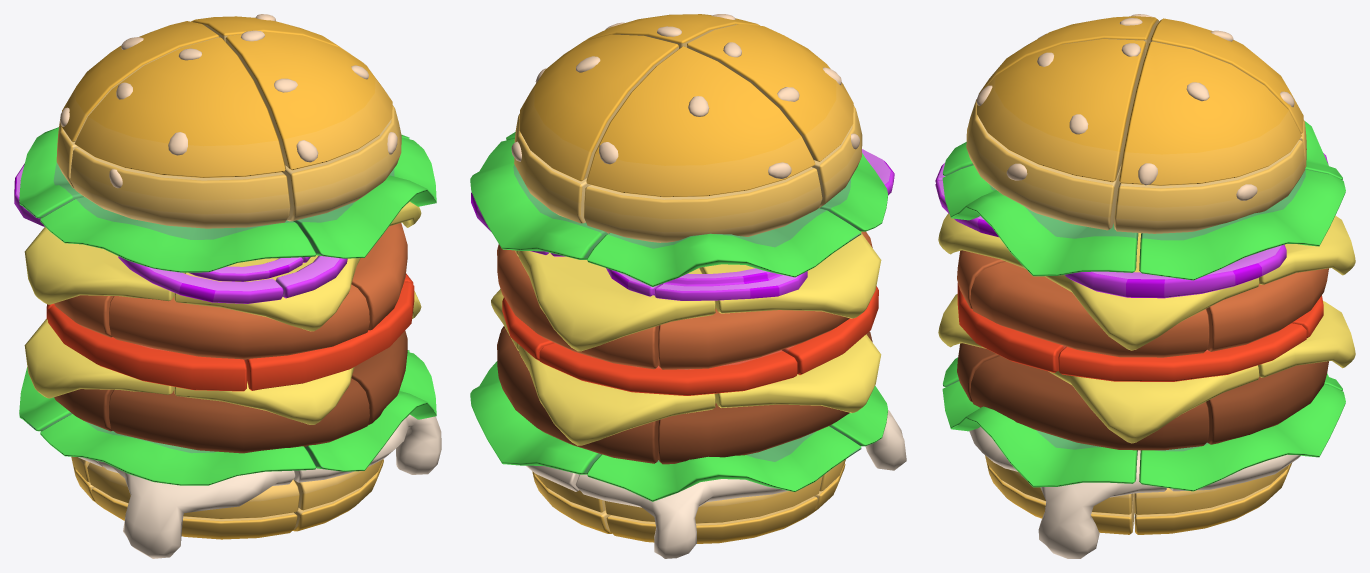
The model's file is Level_P_19.fbx.
The picture shows the model from 3 angles, left to right: view 1: azimuth 30°, elevation 25°; view 2: azimuth 150°, elevation 25°; view 3: azimuth 270°, elevation 25°; orthographic projection.
Parts seen in each view (by area): view 1: Hamburger_2_2, Hamburger_2_5, Hamburger_2_23, Hamburger_2_23.001, Hamburger_2_6, Hamburger_2_32.001, Hamburger_2_32, Hamburger_2_14, Hamburger_2_35.001, Hamburger_2_10, Hamburger_2_19.001, Hamburger_2_9 (+21 smaller); view 2: Hamburger_2_3, Hamburger_2_4, Hamburger_2_7, Hamburger_2_33.001, Hamburger_2_2, Hamburger_2_20.001, Hamburger_2_33, Hamburger_2_24.001, Hamburger_2_24, Hamburger_2_20, Hamburger_2_34.001, Hamburger_2_11 (+22 smaller); view 3: Hamburger_2_4, Hamburger_2_5, Hamburger_2_34.001, Hamburger_2_22.001, Hamburger_2_35.001, Hamburger_2_22, Hamburger_2_8, Hamburger_2_34, Hamburger_2_35, Hamburger_2_9, Hamburger_2_21, Hamburger_2_12 (+23 smaller).
Boxes of the visible parts, box(x1,y1,x2,y2) form: Hamburger_2_2: box(74, 37, 285, 177); Hamburger_2_5: box(225, 30, 392, 170); Hamburger_2_23: box(109, 378, 369, 453); Hamburger_2_23.001: box(108, 284, 369, 359); Hamburger_2_6: box(70, 147, 290, 228); Hamburger_2_32.001: box(40, 197, 316, 272); Hamburger_2_32: box(40, 414, 316, 485); Hamburger_2_14: box(97, 461, 295, 558); Hamburger_2_35.001: box(293, 137, 436, 258); Hamburger_2_10: box(48, 305, 246, 391); Hamburger_2_19.001: box(24, 227, 184, 304); Hamburger_2_9: box(282, 105, 401, 221); Hamburger_2_3: box(586, 46, 815, 197); Hamburger_2_4: box(519, 34, 678, 181); Hamburger_2_7: box(583, 167, 822, 242); Hamburger_2_33.001: box(587, 208, 861, 286); Hamburger_2_2: box(687, 24, 853, 161); Hamburger_2_20.001: box(518, 250, 715, 351); Hamburger_2_33: box(587, 426, 861, 501); Hamburger_2_24.001: box(657, 308, 849, 369); Hamburger_2_24: box(657, 403, 849, 464); Hamburger_2_20: box(518, 345, 715, 445); Hamburger_2_34.001: box(470, 138, 607, 259); Hamburger_2_11: box(539, 343, 797, 395); Hamburger_2_4: box(1119, 41, 1301, 185); Hamburger_2_5: box(976, 39, 1146, 182); Hamburger_2_34.001: box(1139, 169, 1345, 280); Hamburger_2_22.001: box(970, 261, 1209, 357); Hamburger_2_35.001: box(942, 165, 1138, 276); Hamburger_2_22: box(970, 356, 1209, 450); Hamburger_2_8: box(1114, 140, 1304, 233); Hamburger_2_34: box(1139, 384, 1345, 491); Hamburger_2_35: box(942, 381, 1137, 487); Hamburger_2_9: box(966, 103, 1121, 230); Hamburger_2_21: box(1048, 365, 1259, 443); Hamburger_2_12: box(1058, 323, 1306, 381).
Bounding box in the file's own units: 6.17 × 7.16 × 6.12.
